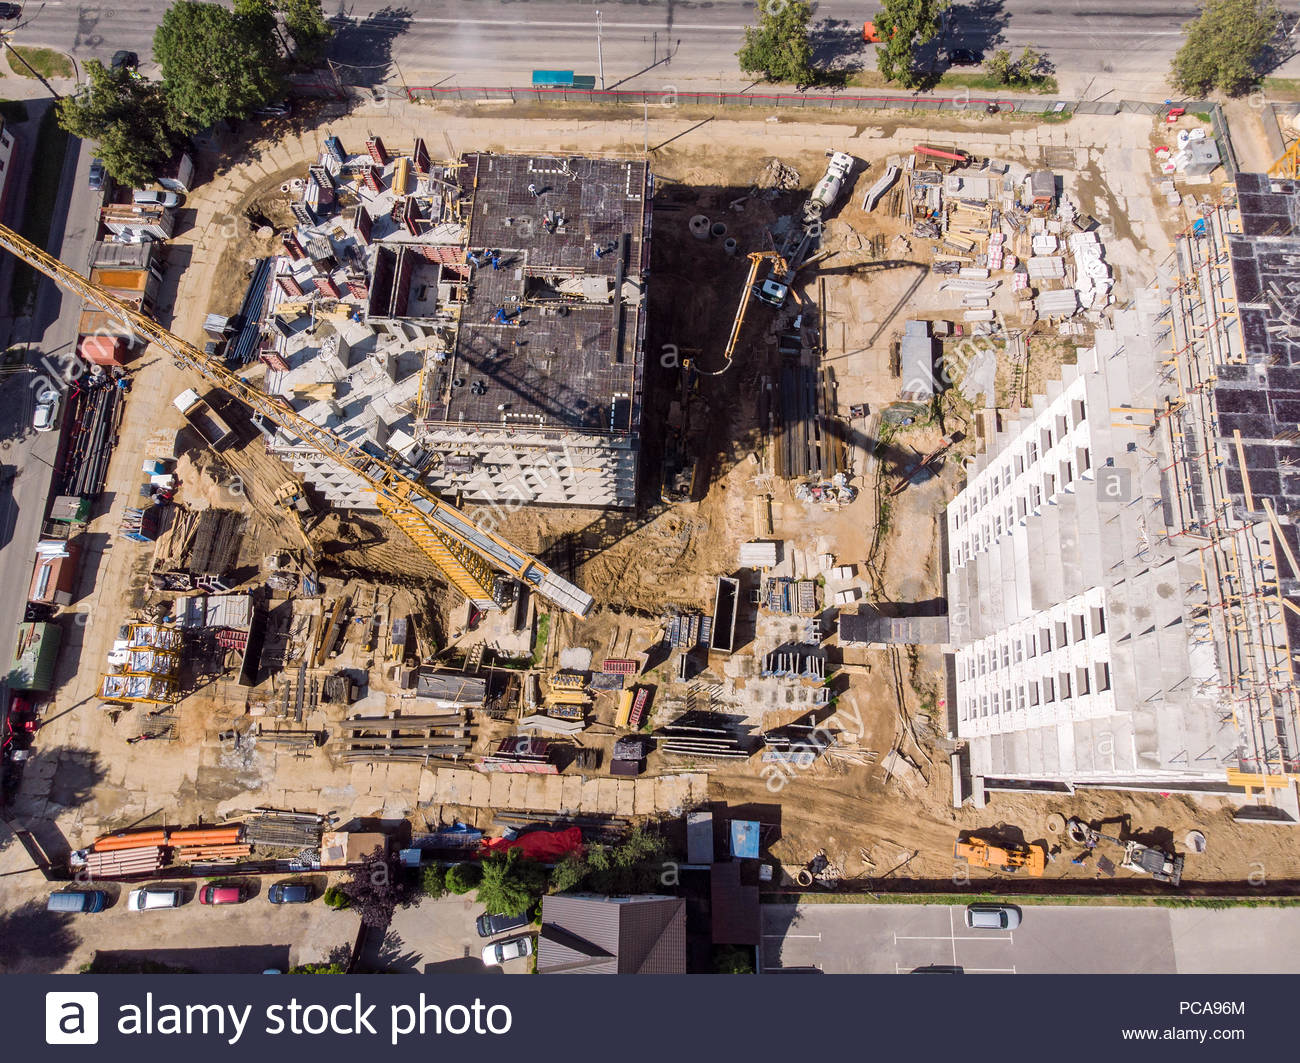crane: (1, 226, 596, 618)
